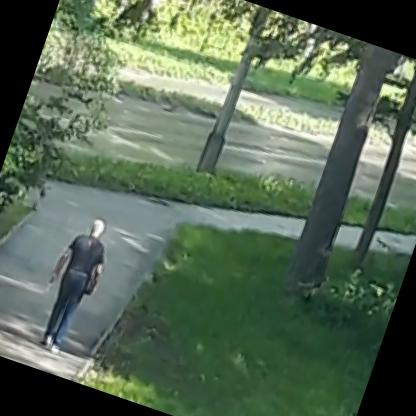Human Body: (25, 210, 122, 362)
